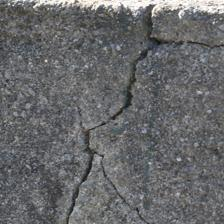Crack: (0, 20, 82, 131), (9, 73, 85, 145), (74, 53, 149, 103), (51, 54, 104, 92)
